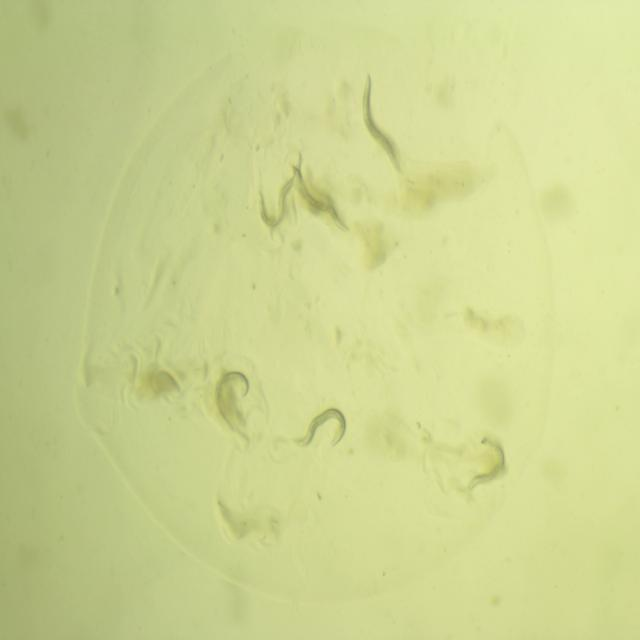worm: (352, 61, 411, 187), (284, 153, 356, 244), (250, 136, 312, 238), (208, 348, 268, 450), (459, 424, 519, 503), (286, 398, 354, 466)
